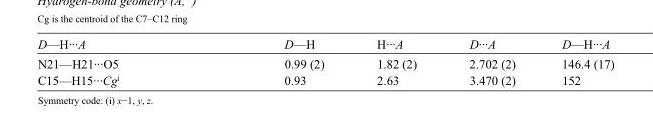table: (36, 37, 613, 86)
table column: (36, 37, 201, 86), (201, 37, 349, 86), (442, 37, 538, 86), (349, 37, 442, 86), (538, 37, 613, 86)
table row: (36, 53, 613, 71), (36, 37, 613, 53), (36, 71, 613, 86)
